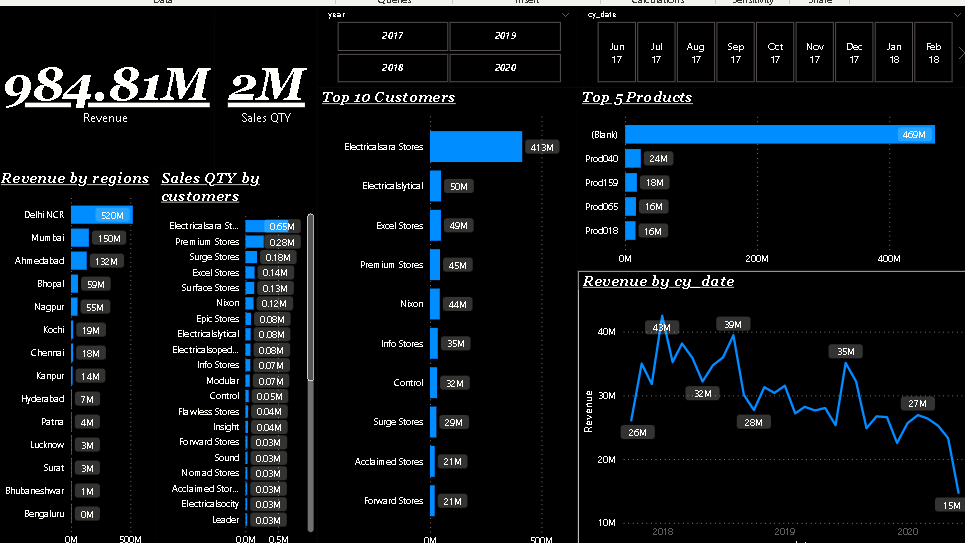

This screenshot's page, from the dashboard's own definition file:
{"tool":"powerbi","page":{"name":"Page 1","canvas":[1280,720],"ordinal":0},"visuals":[{"type":"card","fields":{"Values":["BaseMeasures.Revenue"]},"box":[0,0,286.3,214.7],"z":0},{"type":"card","fields":{"Values":["BaseMeasures.Sales QTY"]},"box":[286.3,0,134.9,214.7],"z":1000},{"type":"barChart","title":"Revenue by regions","fields":{"Category":["sales markets.markets_name"],"Y":["BaseMeasures.Revenue"]},"box":[0,214.7,210.6,505.1],"z":2000},{"type":"barChart","title":"Sales QTY by customers","fields":{"Y":["BaseMeasures.Sales QTY"],"Category":["sales customers.custmer_name"]},"box":[210.6,214.7,210.6,505.1],"z":3000},{"type":"slicer","fields":{"Values":["sales date.year"]},"box":[421.2,0,342.7,107.4],"z":4000},{"type":"slicer","fields":{"Values":["sales date.cy_date"]},"box":[763.9,0,516.1,107.4],"z":5000},{"type":"barChart","title":"Top 10 Customers","fields":{"Y":["BaseMeasures.Revenue"],"Category":["sales customers.custmer_name"]},"box":[421.2,107.4,342.7,612.5],"z":6000},{"type":"barChart","title":"Top 5 Products","fields":{"Y":["BaseMeasures.Revenue"],"Category":["sales products.product_code"]},"box":[763.9,107.4,516.1,240.9],"z":7000},{"type":"lineChart","fields":{"Y":["BaseMeasures.Revenue"],"Category":["sales date.cy_date"]},"box":[763.9,348.2,516.1,371.6],"z":8000}]}

Visuals, with their boxes on the page's 1280x720 design canvas (x1, y1, x2, y2). These are canvas units, not pixel positions in the 965x543 screenshot, which may show the page scaled, cropped or inside an application window:
card - BaseMeasures.Revenue: 0/0/286/215
card - BaseMeasures.Sales QTY: 286/0/421/215
"Revenue by regions" barChart: 0/215/211/720
"Sales QTY by customers" barChart: 211/215/421/720
slicer - sales date.year: 421/0/764/107
slicer - sales date.cy_date: 764/0/1280/107
"Top 10 Customers" barChart: 421/107/764/720
"Top 5 Products" barChart: 764/107/1280/348
lineChart - BaseMeasures.Revenue x sales date.cy_date: 764/348/1280/720
